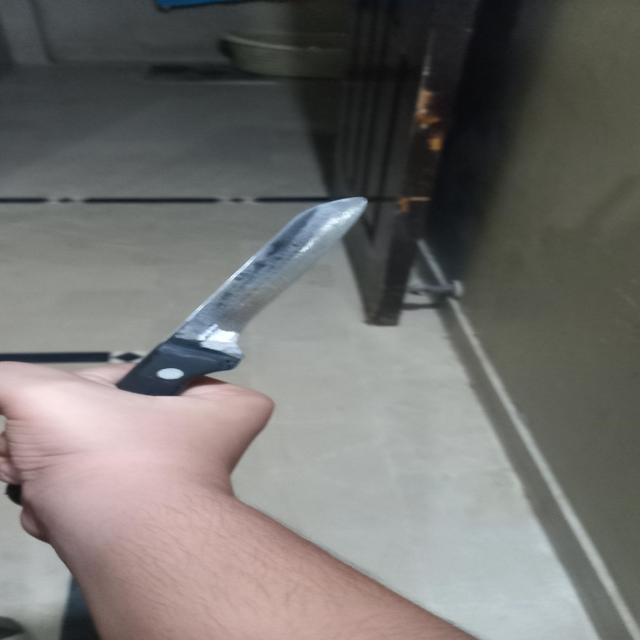Knife: (114, 198, 369, 398)
Person: (0, 357, 484, 640)
